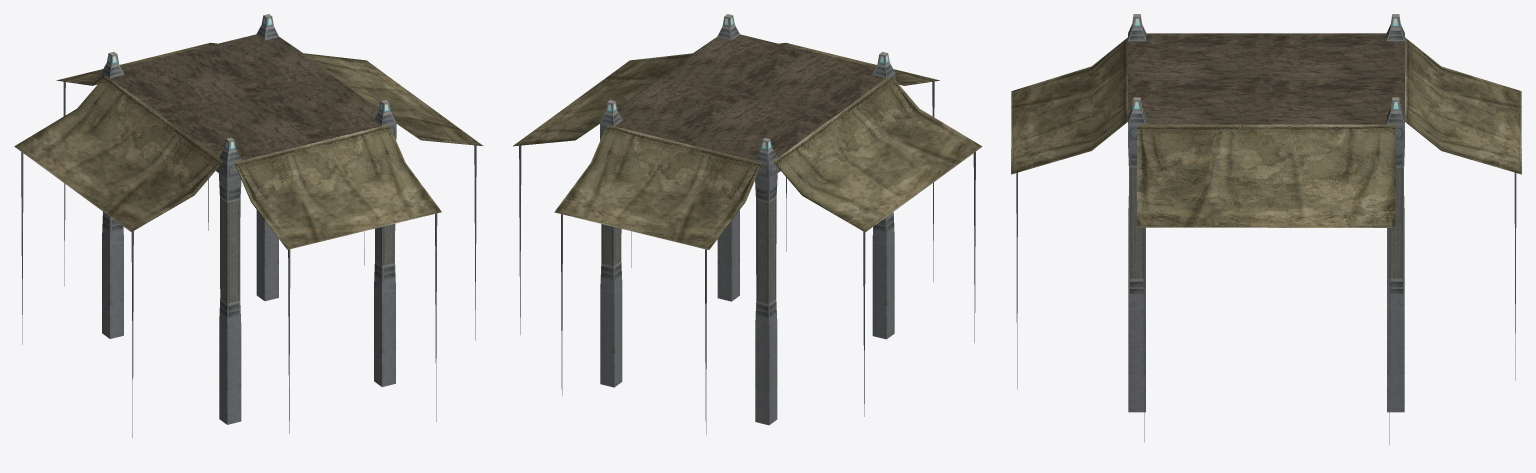
Rendered from eqp_camping_pavilion_s1_l1.fbx.
3 views of the same model, side by side, from view 1: azimuth 30°, elevation 25°; view 2: azimuth 150°, elevation 25°; view 3: azimuth 270°, elevation 25° (orthographic). The views are drawn at different scales.
Parts seen in each view (by area): view 1: mesh_node; view 2: mesh_node; view 3: mesh_node.
Part boxes in pixels (x1,y1,x2,y2): mesh_node: (14,14,483,437); mesh_node: (513,14,982,434); mesh_node: (1011,14,1521,444).
Size of the model in its own units: 14.58 by 11.1 by 16.58.
